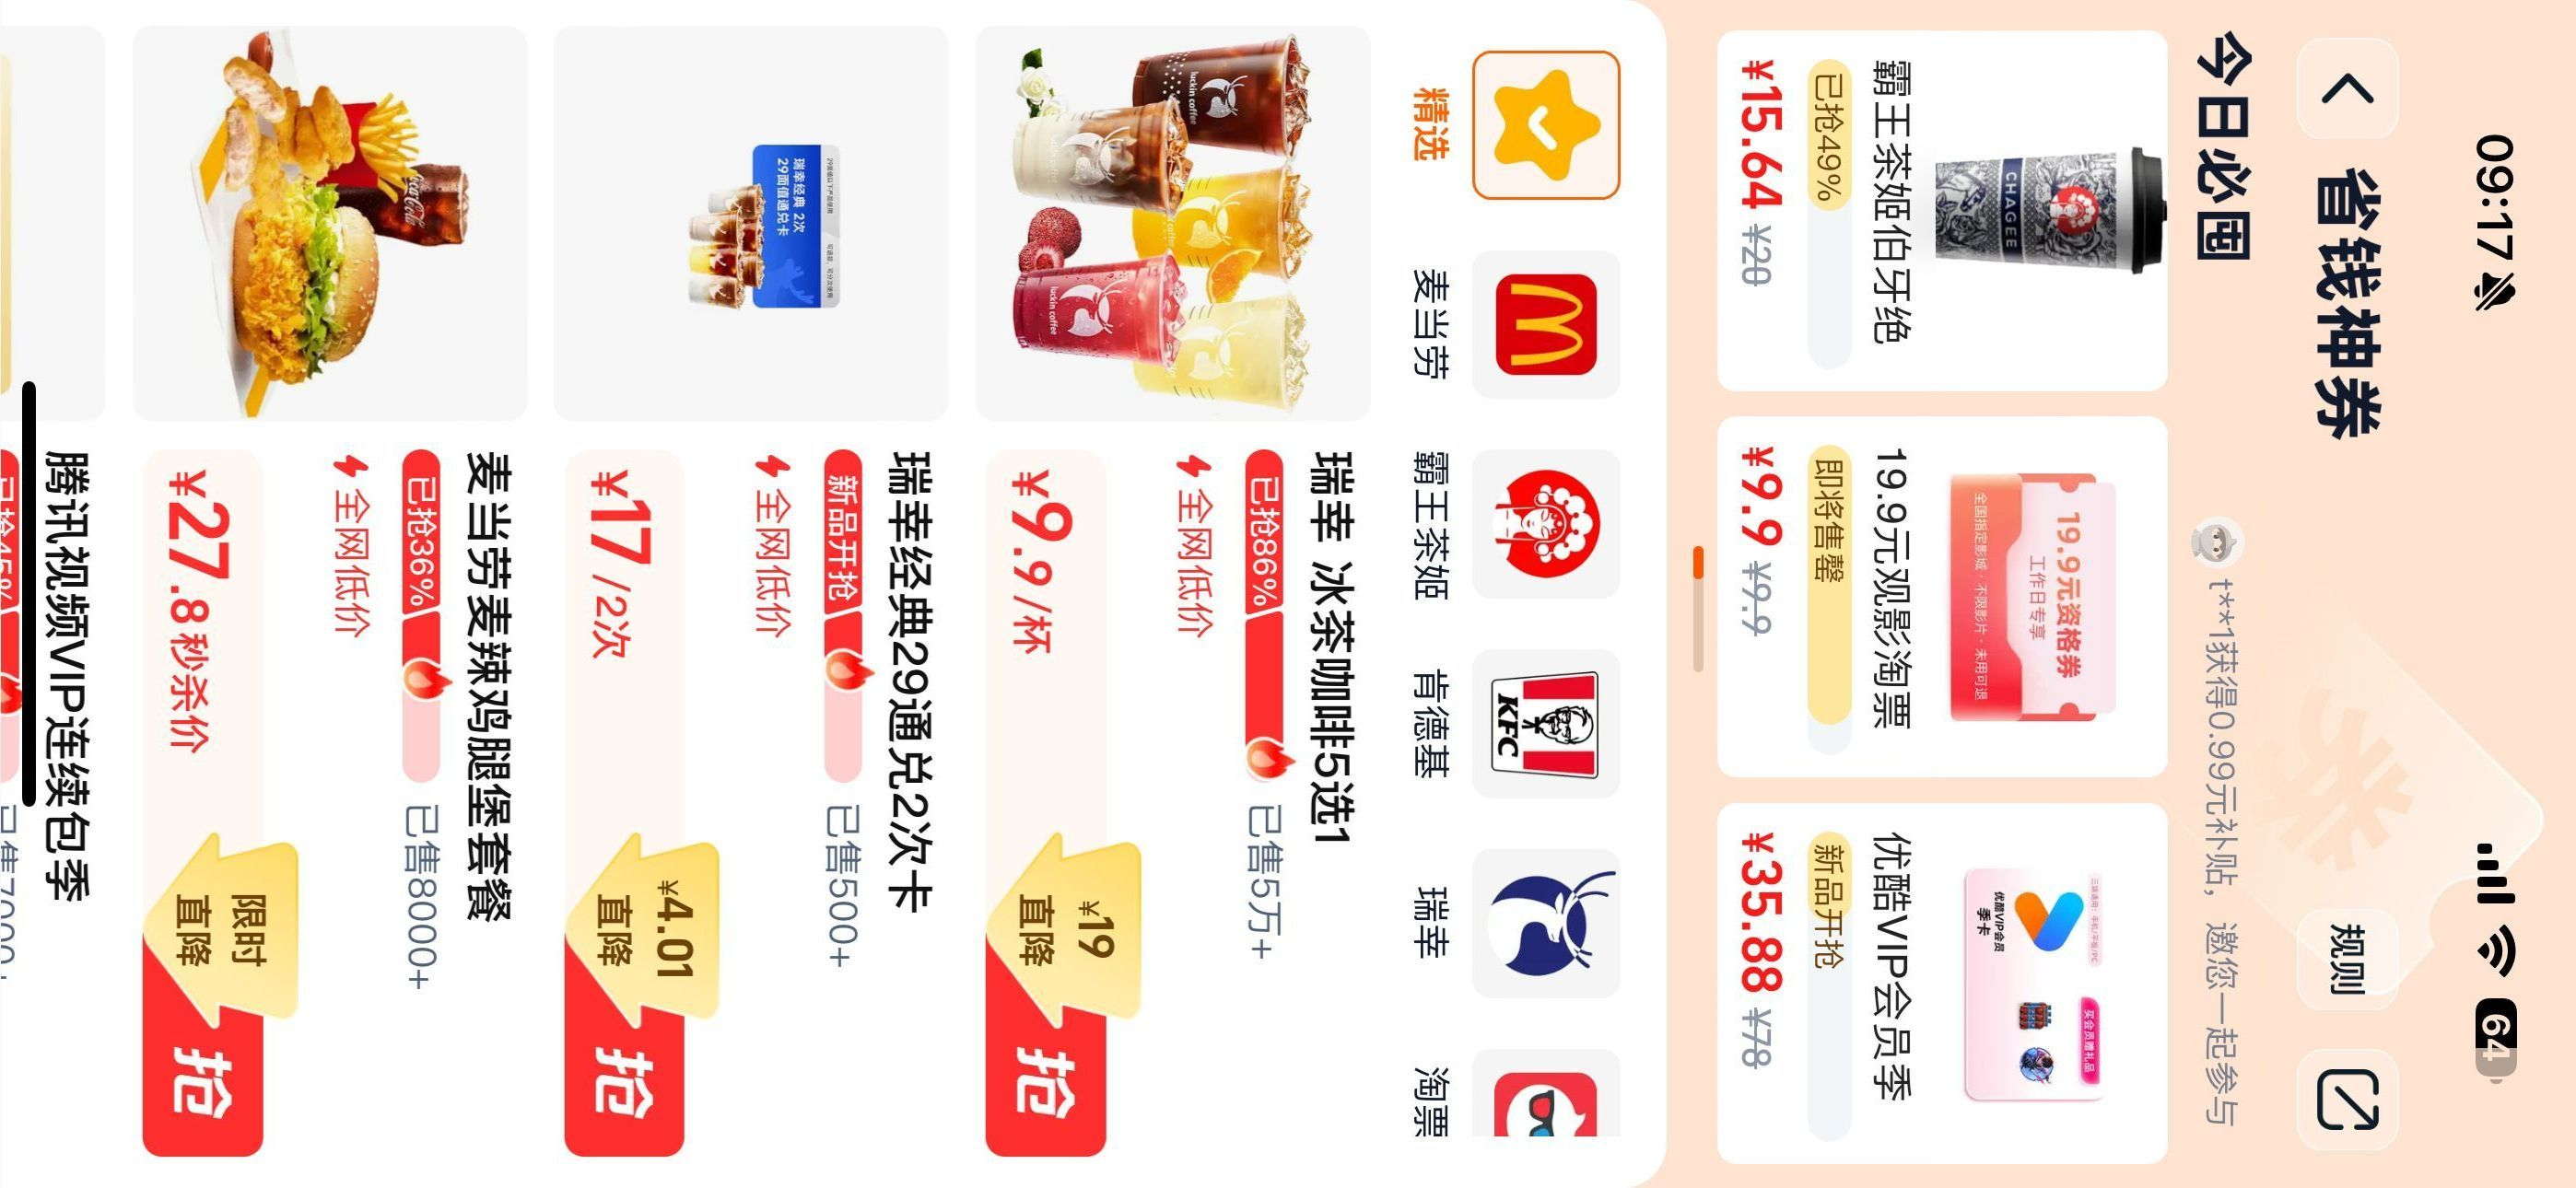item: (956, 3, 1385, 1188), (541, 5, 958, 1188), (122, 3, 534, 1188)
op_bar: (2267, 3, 2431, 1176)
seckill: (1694, 13, 2192, 1188)
